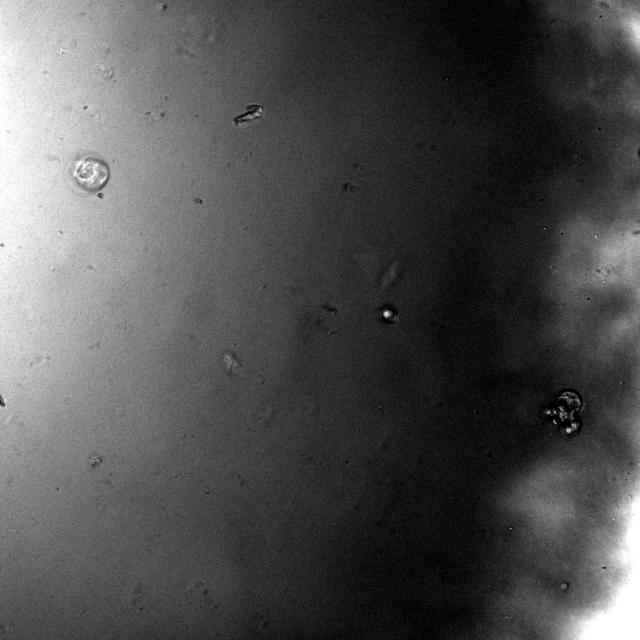organoid: (544, 390, 583, 436), (66, 153, 109, 194)
